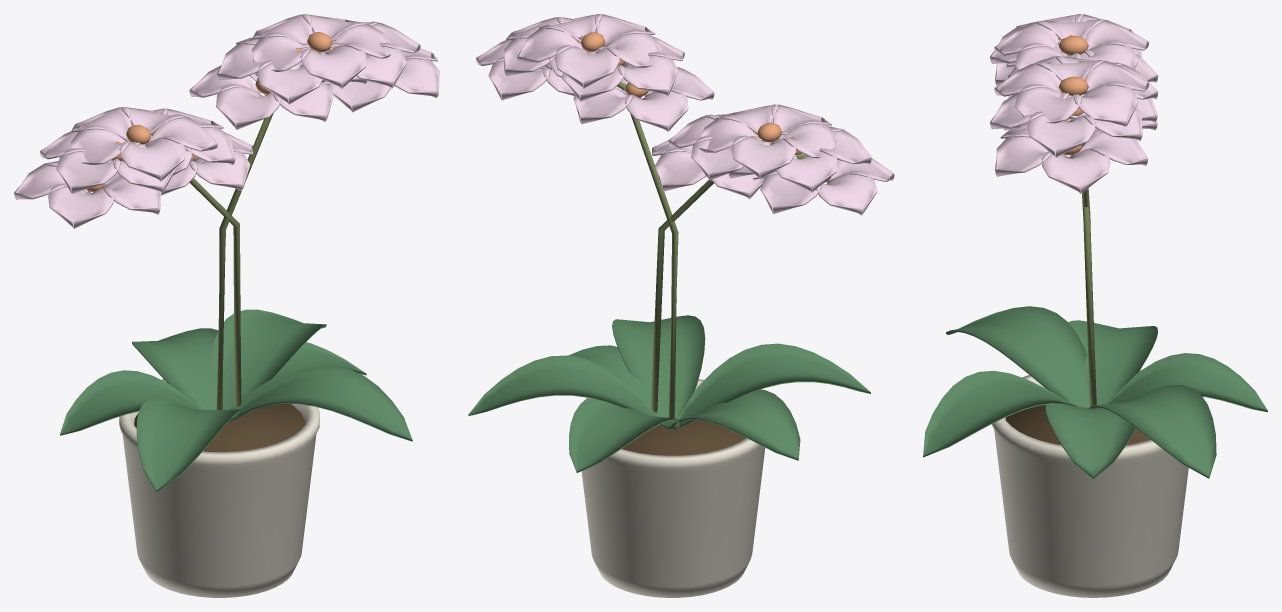
Rendered from orchid.glb.
3 renders of one model, left to right at view 1: azimuth 30°, elevation 25°; view 2: azimuth 150°, elevation 25°; view 3: azimuth 270°, elevation 25°, orthographic. The views are drawn at different scales.
Parts seen in each view (by area): view 1: orchid__flowers, orchid__leaves, orchid__body, orchid__stems, orchid__soil, orchid__flower_center; view 2: orchid__flowers, orchid__leaves, orchid__body, orchid__stems, orchid__soil, orchid__flower_center; view 3: orchid__leaves, orchid__body, orchid__flowers, orchid__stems, orchid__soil, orchid__flower_center.
Part boxes in pixels (left/top/right/bottom): orchid__flowers: left=14, top=14, right=439, bottom=228; orchid__leaves: left=60, top=309, right=412, bottom=491; orchid__body: left=119, top=379, right=319, bottom=597; orchid__stems: left=189, top=113, right=273, bottom=410; orchid__soil: left=134, top=404, right=304, bottom=451; orchid__flower_center: left=86, top=32, right=336, bottom=192; orchid__flowers: left=476, top=14, right=894, bottom=215; orchid__leaves: left=468, top=315, right=870, bottom=472; orchid__body: left=580, top=379, right=765, bottom=597; orchid__stems: left=617, top=82, right=807, bottom=418; orchid__soil: left=622, top=419, right=745, bottom=455; orchid__flower_center: left=541, top=32, right=830, bottom=183; orchid__leaves: left=923, top=306, right=1267, bottom=479; orchid__body: left=991, top=370, right=1188, bottom=597; orchid__flowers: left=990, top=14, right=1158, bottom=193; orchid__stems: left=1082, top=143, right=1096, bottom=406; orchid__soil: left=1005, top=405, right=1150, bottom=444; orchid__flower_center: left=1058, top=35, right=1088, bottom=155.
Size of the model in its own units: 0.3516 by 0.426 by 0.25.
